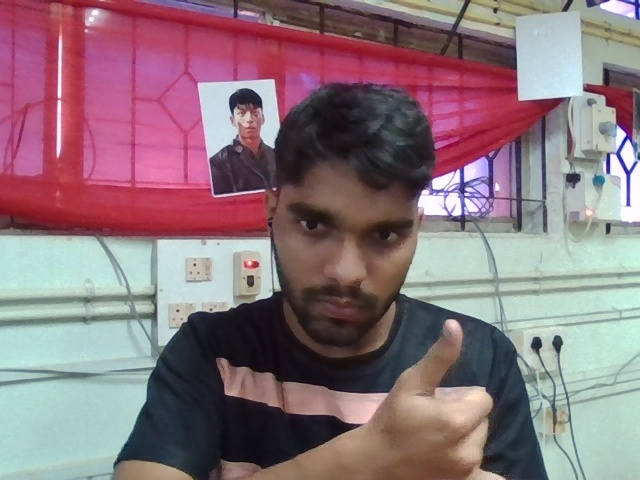help: (319, 301, 530, 480)
